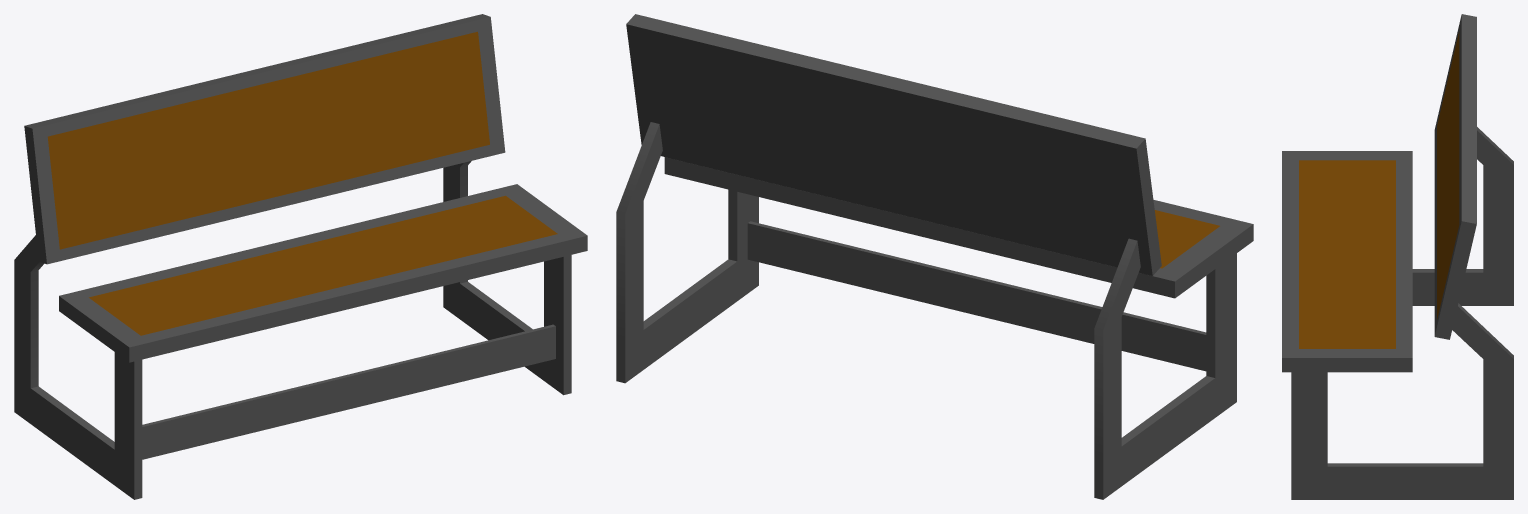
The model's file is bench.fbx.
The picture shows the model from 3 angles, left to right: view 1: azimuth 30°, elevation 25°; view 2: azimuth 150°, elevation 25°; view 3: azimuth 270°, elevation 25°; orthographic projection. The views are drawn at different scales.
Parts seen in each view (by area): view 1: pCube4, pCube1, pCube6, pCube5, pCube3; view 2: pCube4, pCube6, pCube5, pCube1, pCube3; view 3: pCube1, pCube3, pCube4, pCube5.
Part boxes in pixels (x1,y1,x2,y2): pCube4: (24,14,505,264); pCube1: (59,184,587,362); pCube6: (142,324,555,459); pCube5: (14,235,142,499); pCube3: (443,161,571,395); pCube4: (626,14,1161,275); pCube6: (747,221,1206,371); pCube5: (1094,238,1236,499); pCube1: (664,157,1253,298); pCube3: (616,122,758,383); pCube1: (1282,151,1412,372); pCube3: (1291,303,1513,499); pCube4: (1434,14,1476,339); pCube5: (1412,127,1513,305).
Size of the model in its own units: 5.54 by 3.54 by 2.62.
